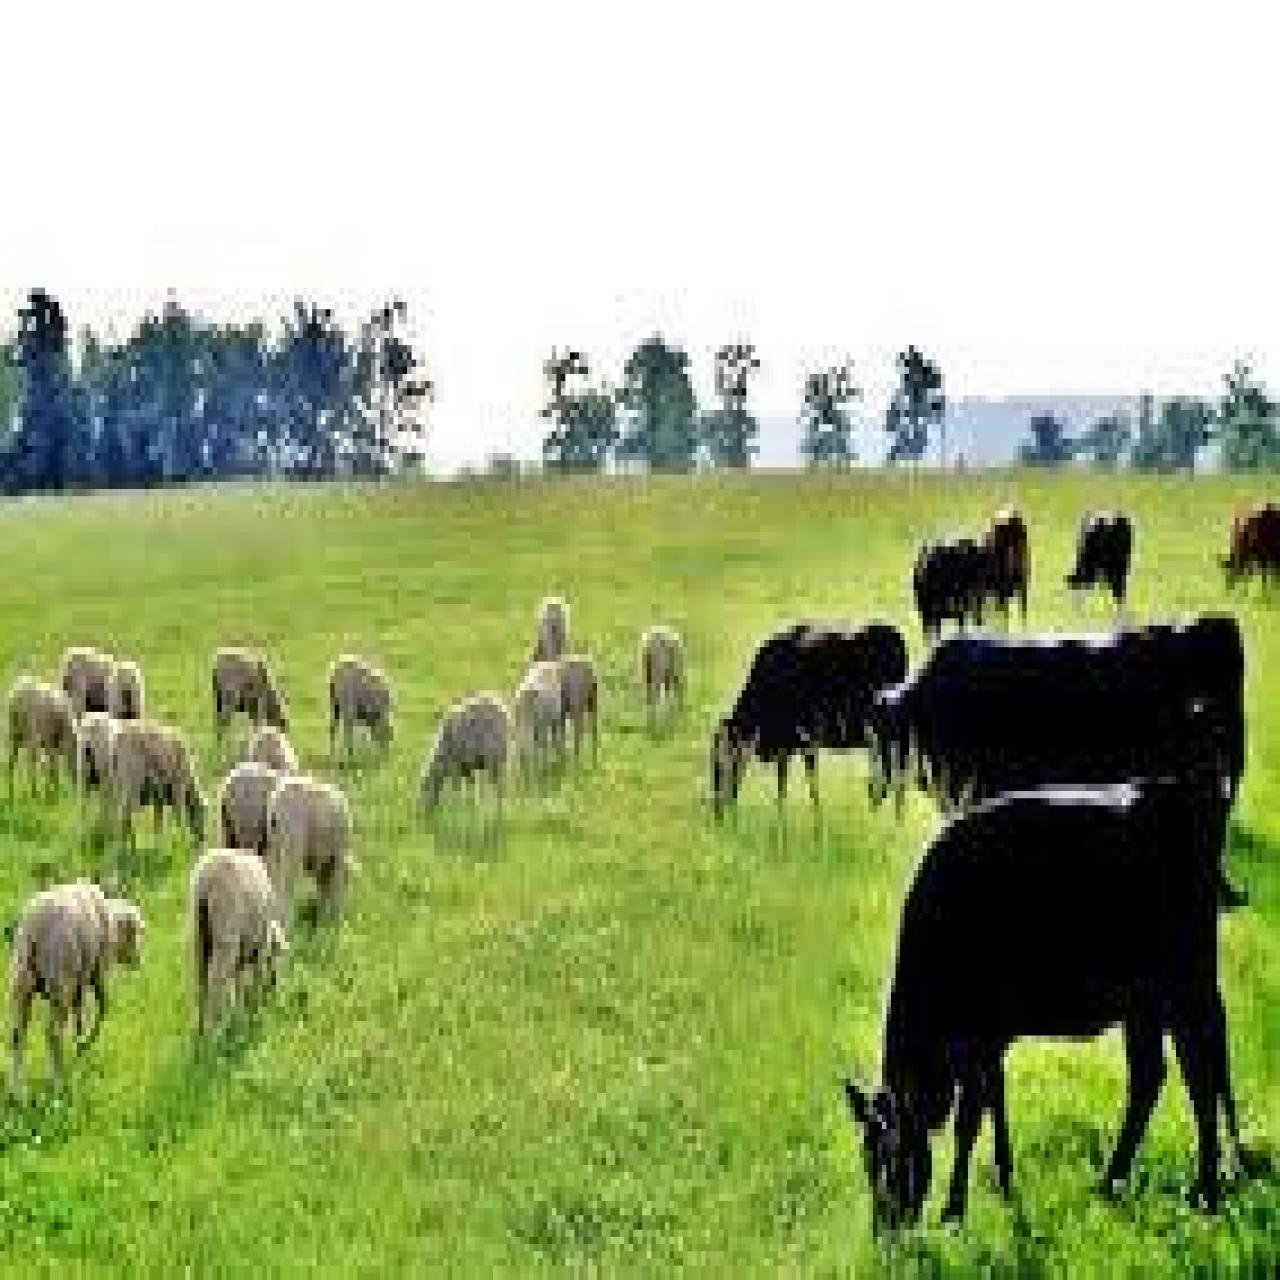cow: (839, 795, 1241, 1247), (859, 607, 1248, 859), (706, 614, 913, 830), (907, 532, 993, 640), (912, 529, 988, 636), (1061, 503, 1137, 604), (1212, 499, 1280, 600), (986, 503, 1036, 633)
